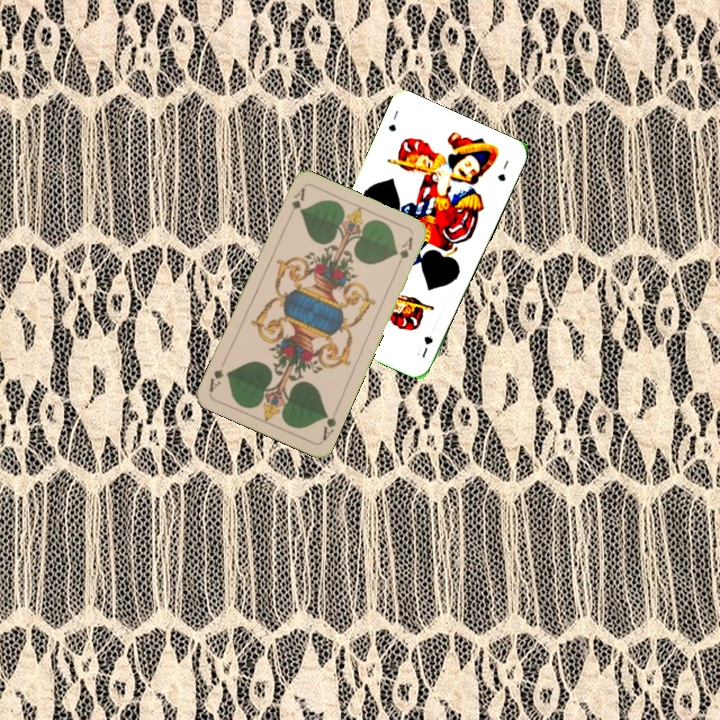GA: (285, 184, 308, 222), (318, 405, 340, 443)
GU: (418, 331, 436, 361), (384, 106, 401, 134)
